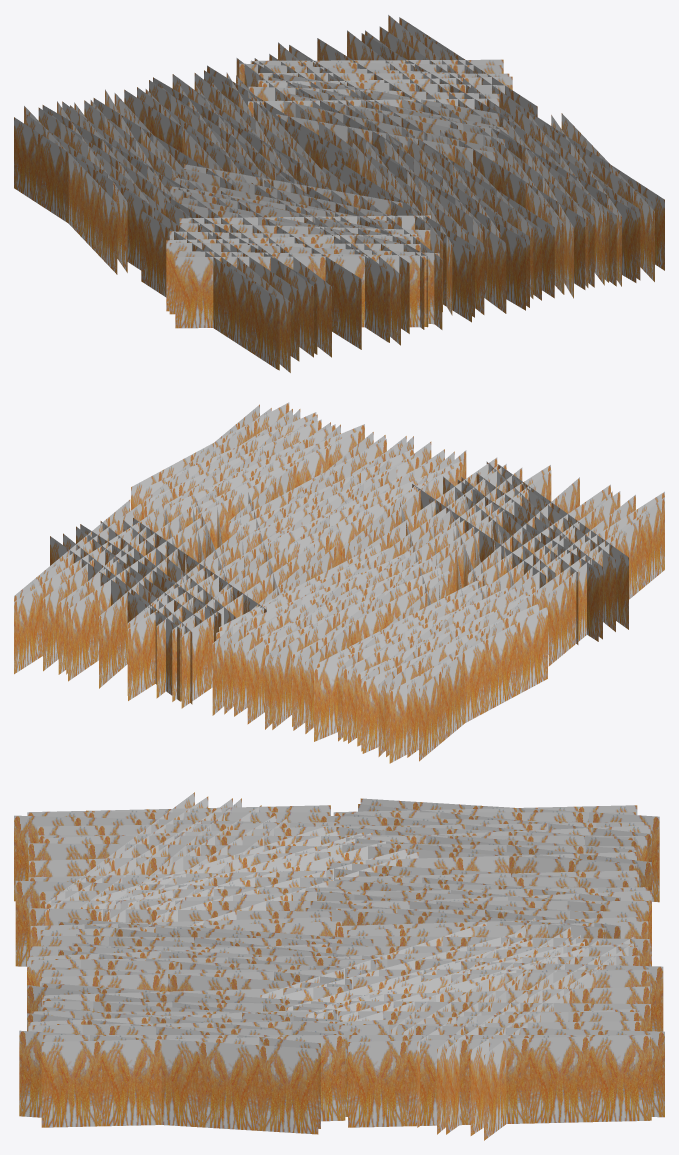
The model's file is WheatField.obj.
3 renders of one model, top to bottom at view 1: azimuth 30°, elevation 25°; view 2: azimuth 150°, elevation 25°; view 3: azimuth 270°, elevation 25°, orthographic. The views are drawn at different scales.
Visible parts, largest first — view 1: Plane; view 2: Plane; view 3: Plane.
Boxes of the visible parts, x1=… form: Plane: x1=14, y1=15, x2=664, y2=372; Plane: x1=14, y1=402, x2=664, y2=763; Plane: x1=14, y1=792, x2=664, y2=1140.
Size of the model in its own units: 0.4218 by 0.0641 by 0.4409.
Materials: 1 (1 with a texture image).
